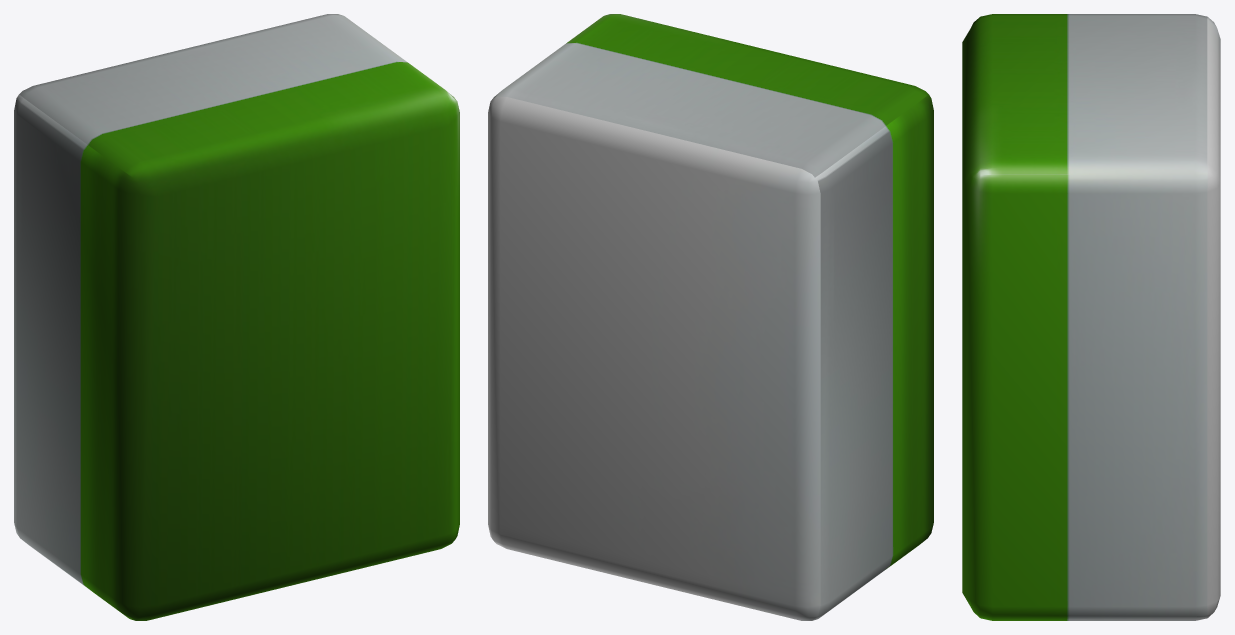
The model's file is majiang.fbx.
The picture shows the model from 3 angles, left to right: view 1: azimuth 30°, elevation 25°; view 2: azimuth 150°, elevation 25°; view 3: azimuth 270°, elevation 25°; orthographic projection.
Parts seen in each view (by area): view 1: pCube8; view 2: pCube8; view 3: pCube8.
Part boxes in pixels (x1,y1,x2,y2): pCube8: (14, 14, 459, 620); pCube8: (488, 14, 933, 620); pCube8: (962, 14, 1220, 620).
Size of the model in its own units: 0.8029 by 1.04 by 0.5301.
